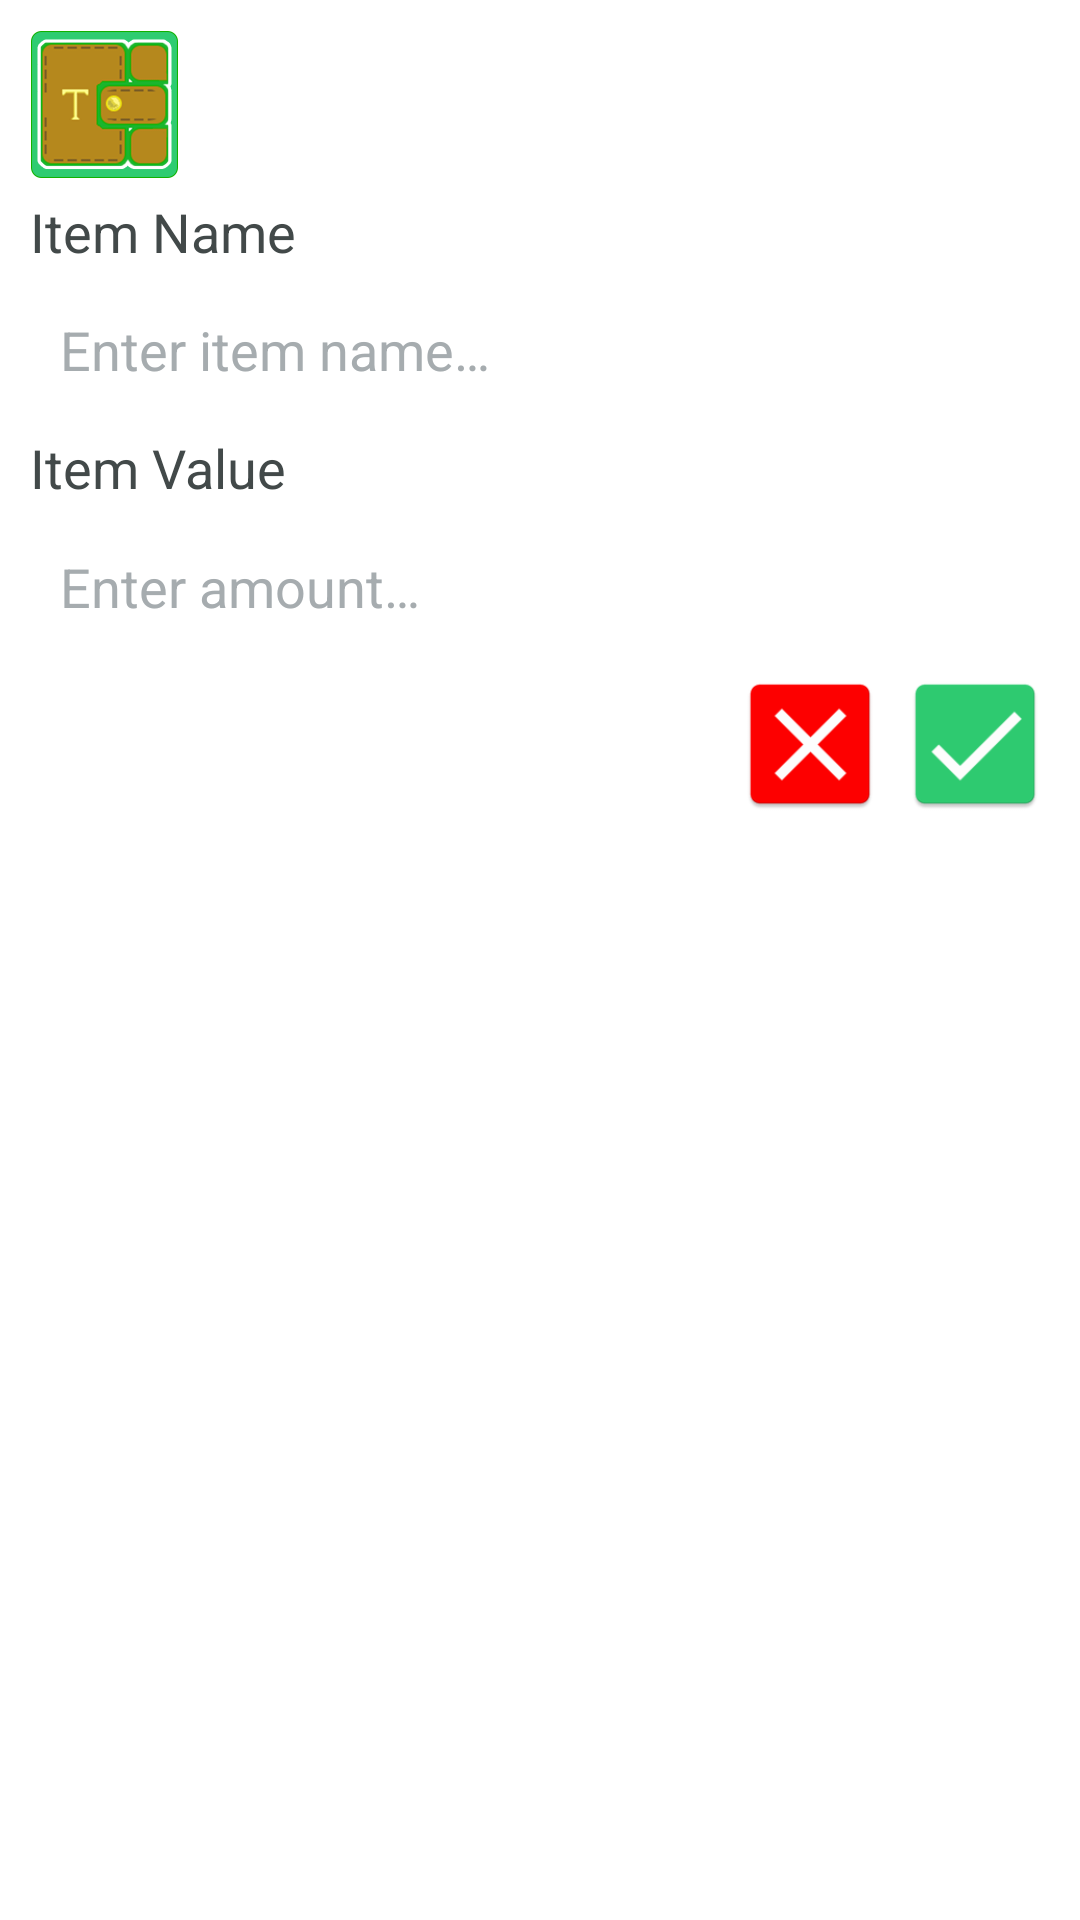

Point at icon controls on the screen. Image size 1080*1920, points as [x,y].
close: [810,745]
done: [975,745]
